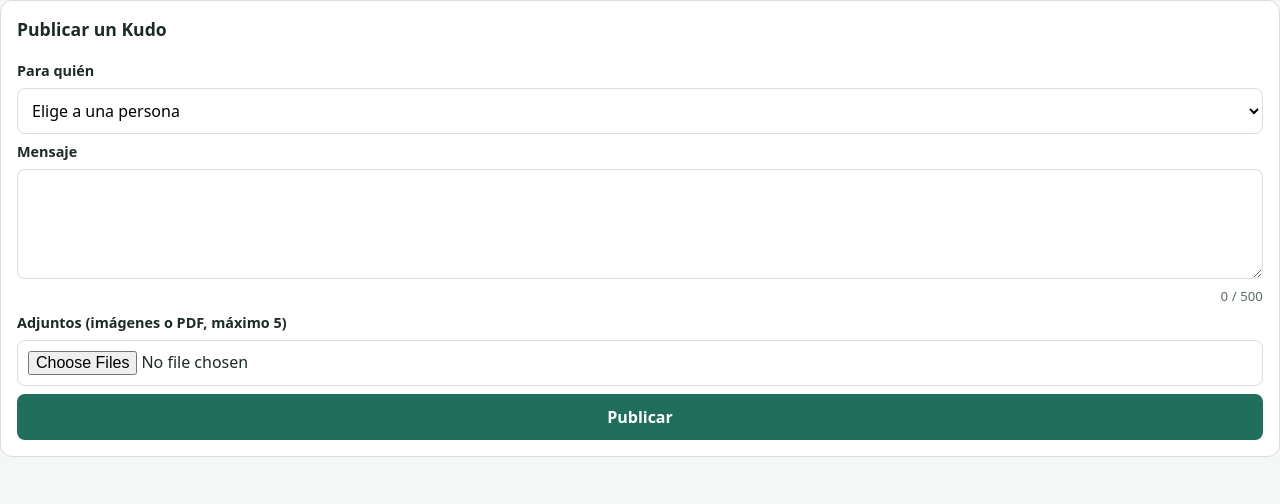
Test: FormularioKudo › publica el kudo y avisa que salió bien
Select "Luis" in the dropdown labelled "Para quién" at x=640, y=111, box [17,88,1263,134]
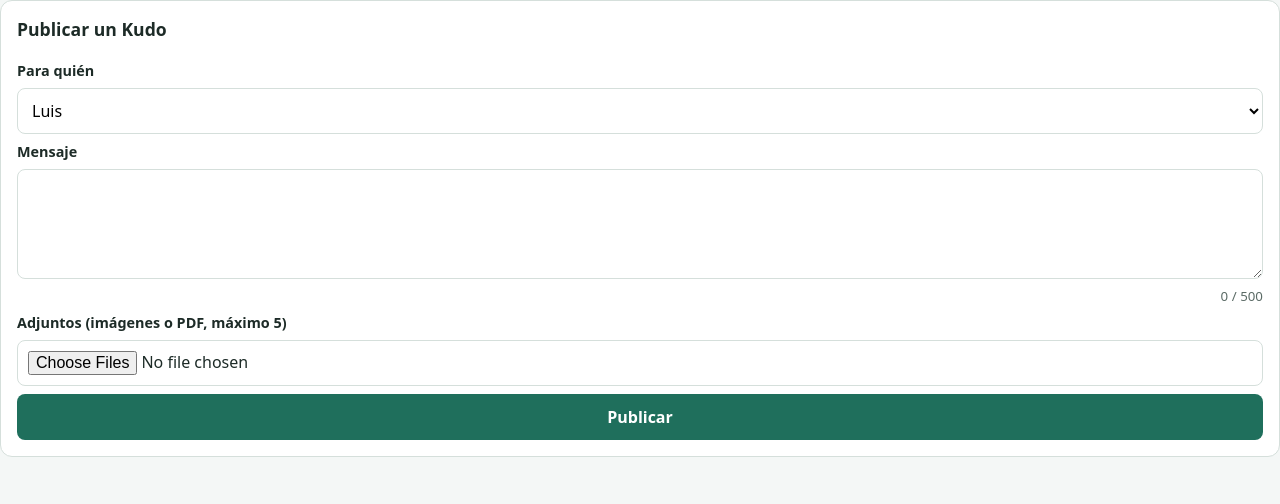
Type "Gracias por todo" into the text box labelled "Mensaje" at x=640, y=224, box [17,169,1263,279]
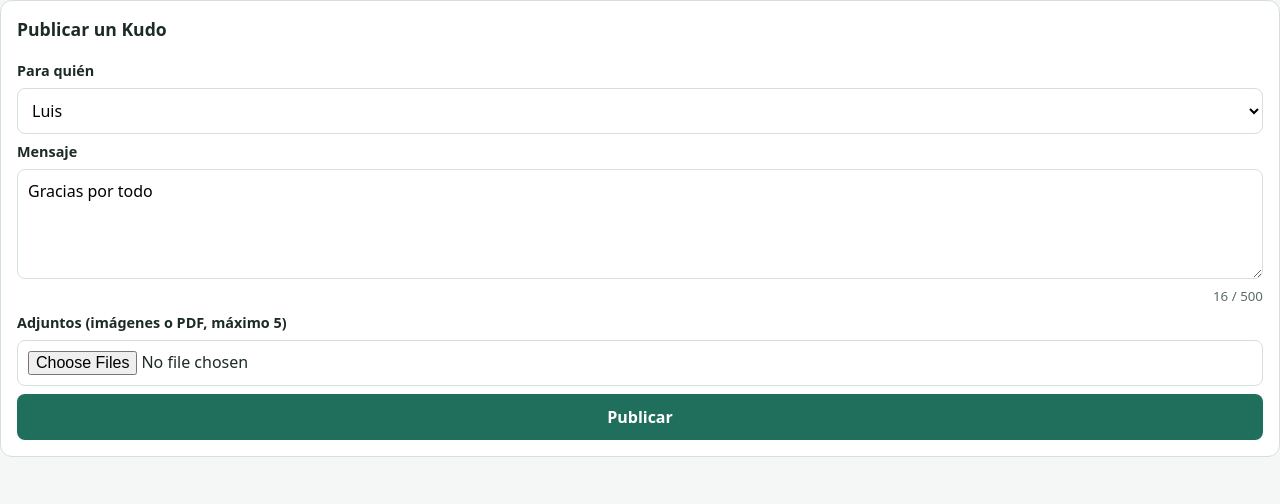
Click the button "Publicar" at x=640, y=417, box [17,394,1263,440]
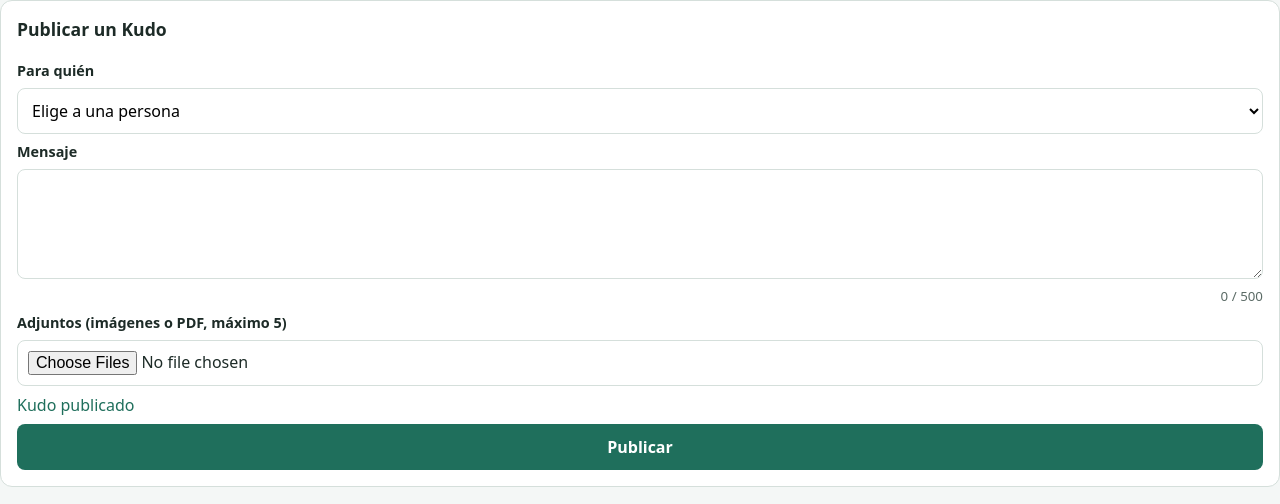
expect the text "Kudo publicado" is shown: met, box [17,394,134,416]
